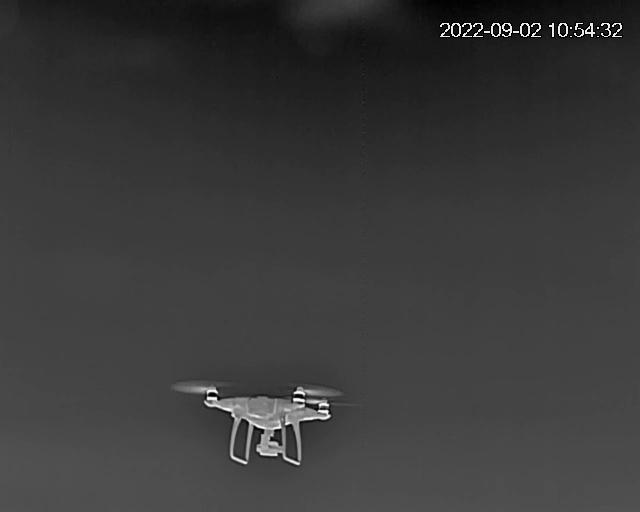DJI-Phantom: (179, 378, 338, 468)
